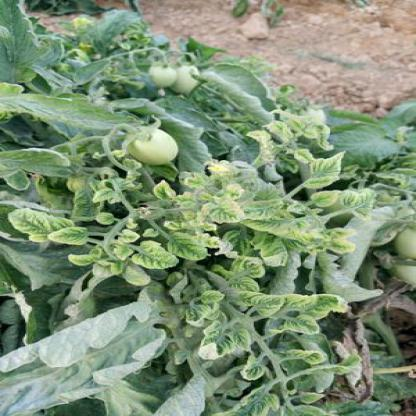tomato leaf yellow virus: (259, 214, 340, 251), (4, 202, 62, 248), (126, 243, 191, 275), (302, 151, 352, 190), (194, 319, 233, 368), (190, 197, 252, 225), (159, 232, 211, 264), (297, 291, 354, 320), (226, 256, 270, 292), (53, 223, 97, 251), (341, 187, 376, 221), (247, 294, 287, 314)
